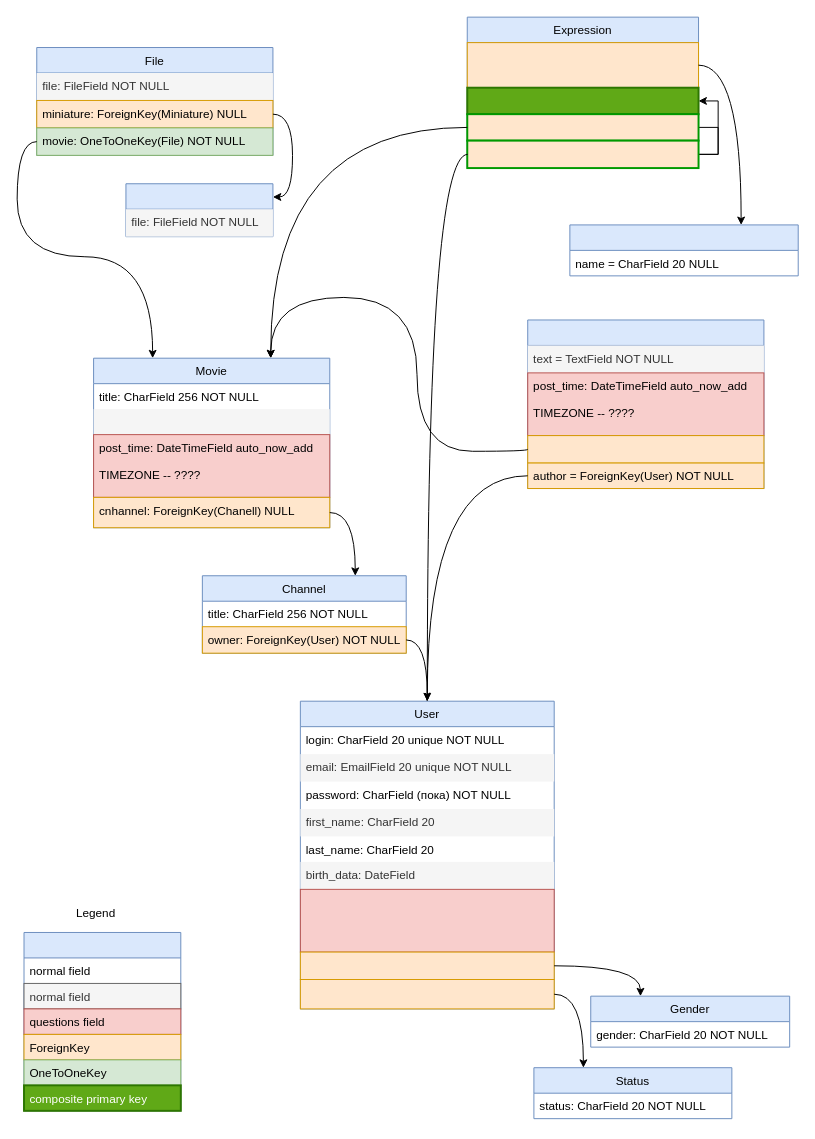
Image size: 815x1139. Some labels were removed from this diagram. The box of each missing label's shape, as (x1, y1, x2, y2) in pixels:
Comments: (527, 319, 764, 489)
ExpressionType: (569, 224, 798, 276)
gender = ForeignKey(Gender) NULL: (299, 951, 554, 980)
META uhique_together: (466, 86, 699, 115)
Miniature: (125, 183, 273, 237)
ModelName: (23, 931, 181, 1111)
movie: ForeignKey(Movie): (466, 113, 699, 141)
register_time: DateTimeField auto_now_add TIMEZONE -- ????: (299, 888, 554, 952)
screen_shot: ImageField: (93, 409, 329, 434)
status = ForeignKey(Status) NULL: (299, 979, 554, 1009)
target = ForeignKey(Movie) NOT NULL: (527, 435, 764, 463)
type = ForeignKey(ExpressionType) null = True blanc = True: (466, 42, 699, 88)
user: ForeignKey(User): (466, 139, 699, 169)
